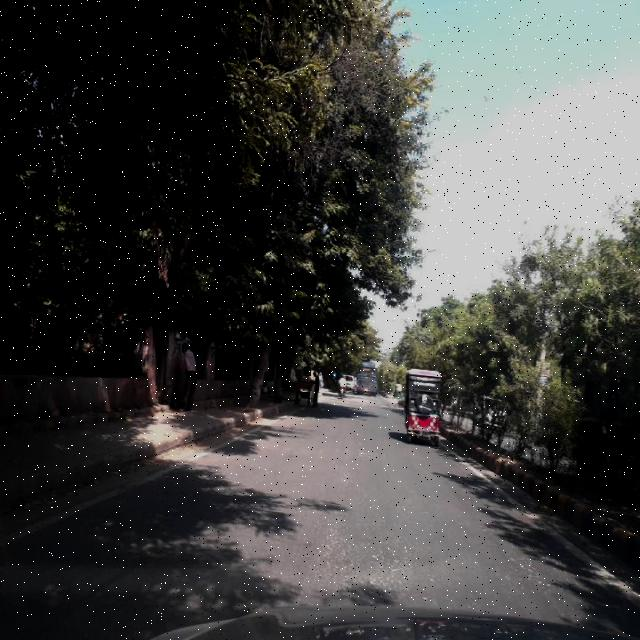D20: (307, 504, 429, 601)
